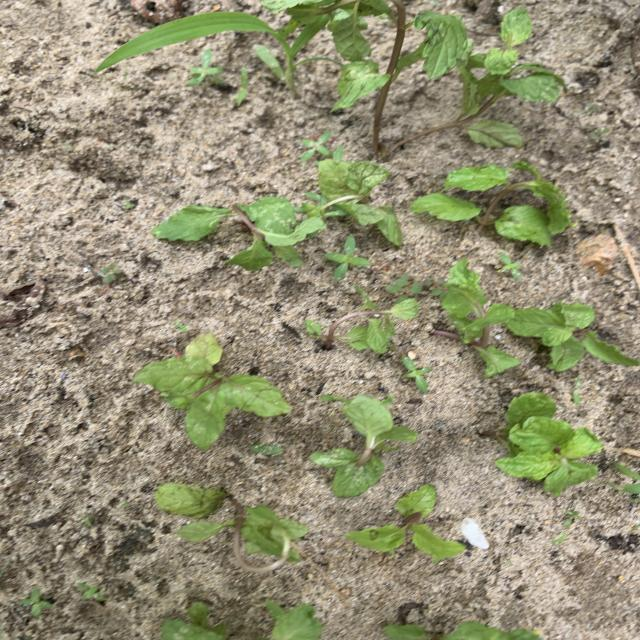crop: (430, 8, 563, 147), (134, 334, 290, 448), (410, 162, 572, 246), (157, 486, 307, 576), (483, 393, 601, 494), (152, 197, 311, 269), (310, 395, 416, 495), (347, 485, 463, 562), (507, 303, 639, 369), (445, 261, 519, 376), (263, 1, 393, 59), (305, 286, 418, 352), (318, 159, 400, 245), (412, 12, 471, 78), (384, 620, 539, 639), (333, 61, 388, 110), (162, 602, 227, 639), (265, 600, 321, 639), (265, 601, 321, 639)
weed: (96, 12, 325, 94), (325, 237, 370, 279), (188, 50, 222, 86), (611, 463, 639, 500), (403, 356, 431, 391), (301, 131, 333, 161), (387, 276, 430, 298), (21, 588, 51, 615), (498, 253, 520, 279), (79, 583, 104, 601), (235, 68, 247, 105), (250, 443, 283, 455), (100, 264, 121, 281), (426, 279, 445, 295), (564, 510, 580, 527), (552, 534, 567, 543)
